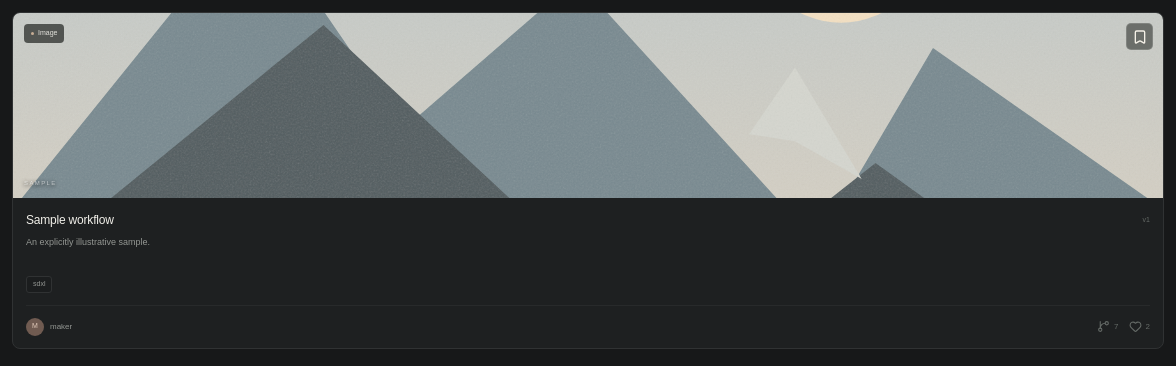
Scenario: platform interactions › shows numeric node counts and toggles likes from the server result
Expected: the element titled "Nodes" reads "7", [1114,322,1119,330]
Click the button named "Like workflow". click: (1139, 326)
box: [1128,320,1150,333]
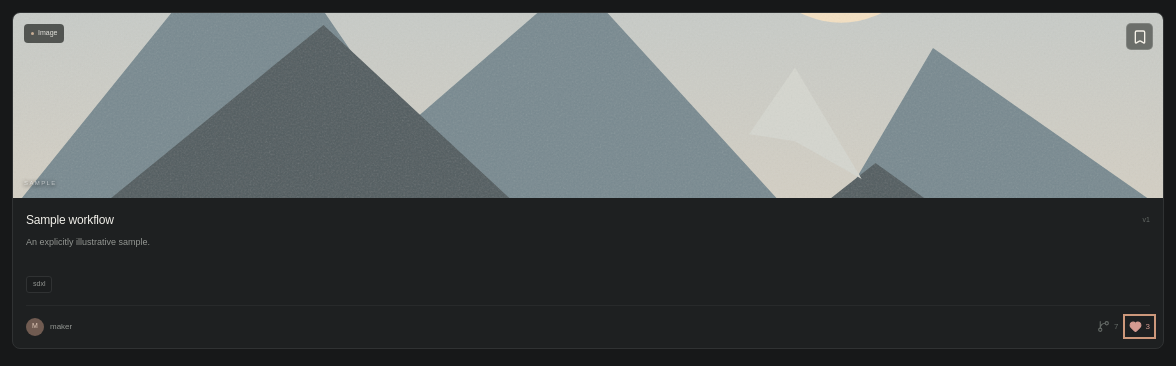
Now the button named "Unlike workflow" reads "3", box [1128,320,1150,333]
